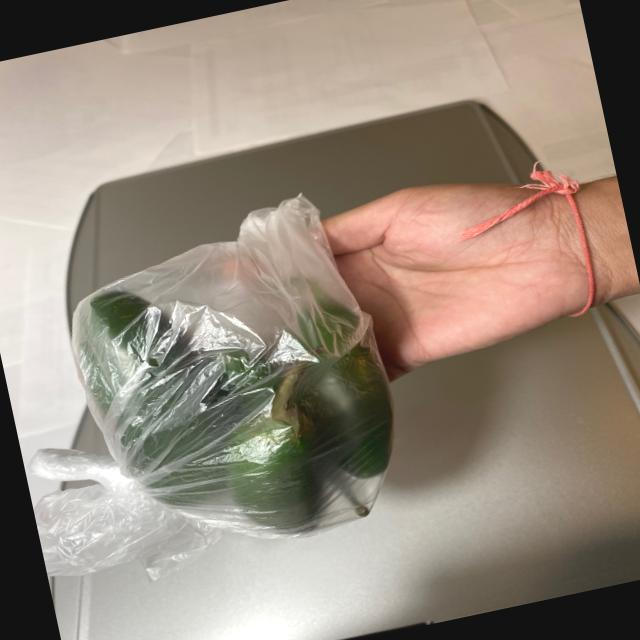chilli: (69, 234, 417, 575)
